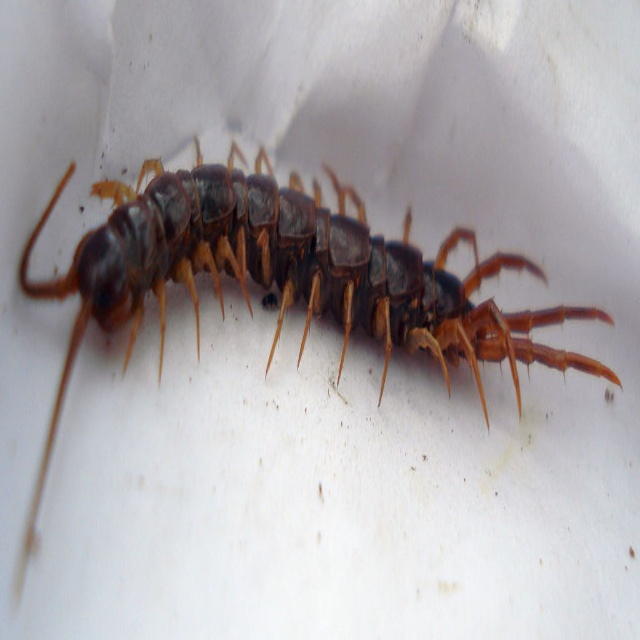Centipede: (12, 127, 620, 595)
